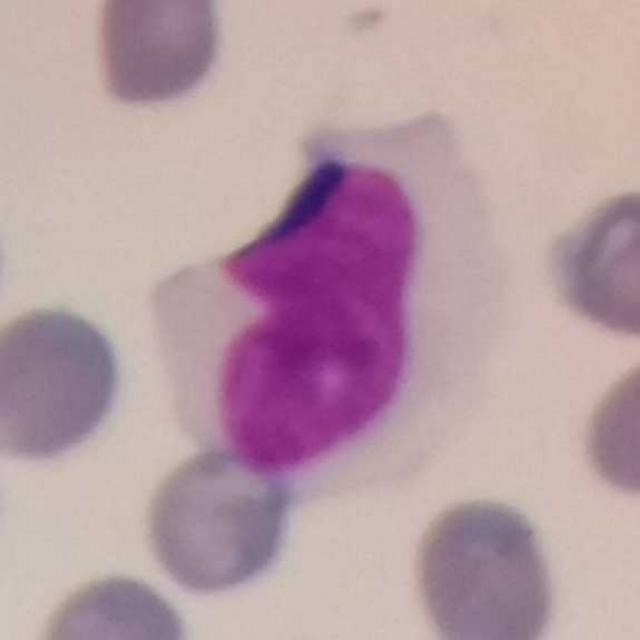mono: (147, 116, 512, 491)
